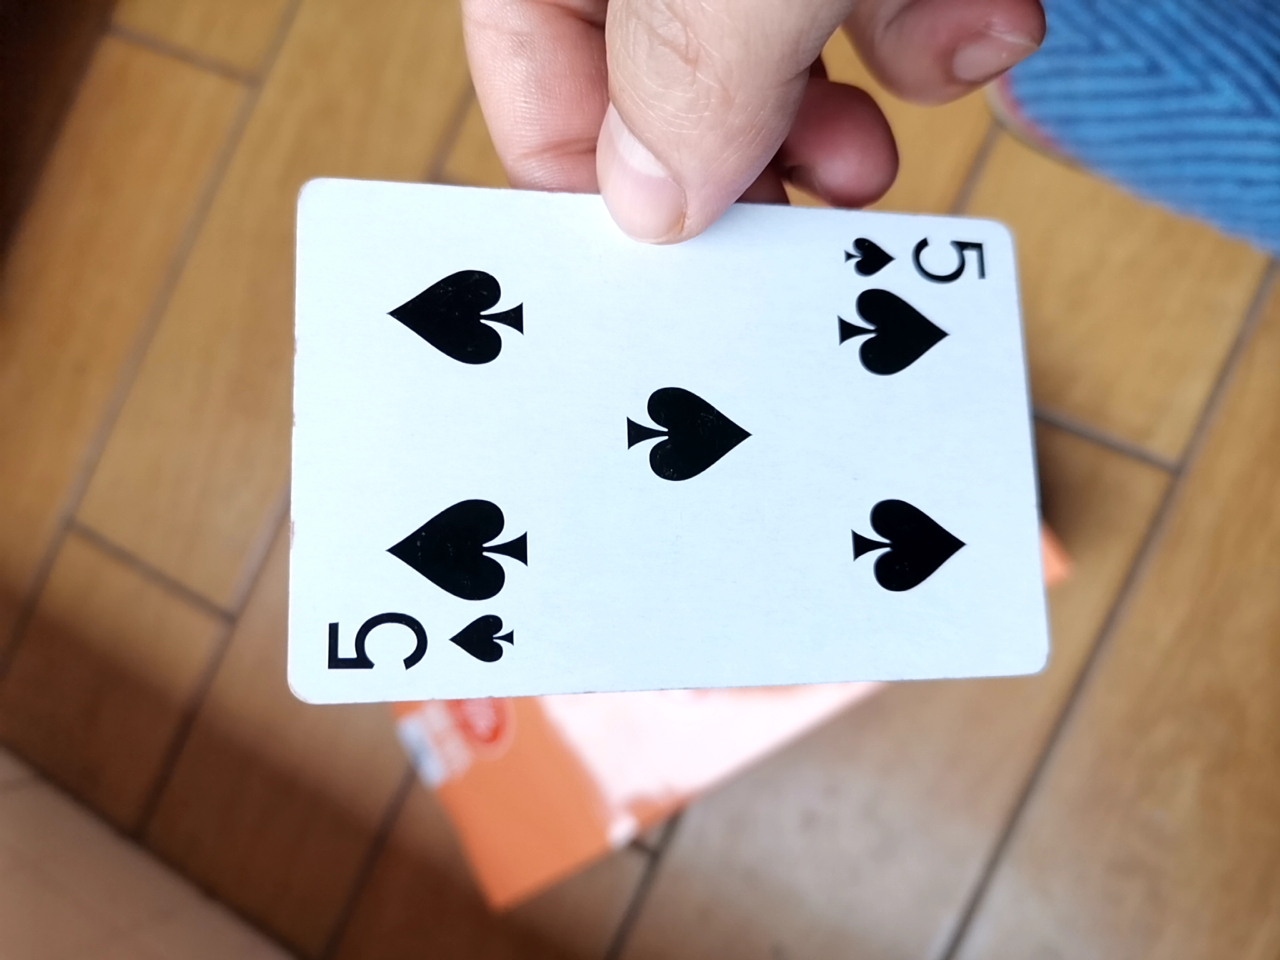ht 5: (250, 183, 1057, 775)
